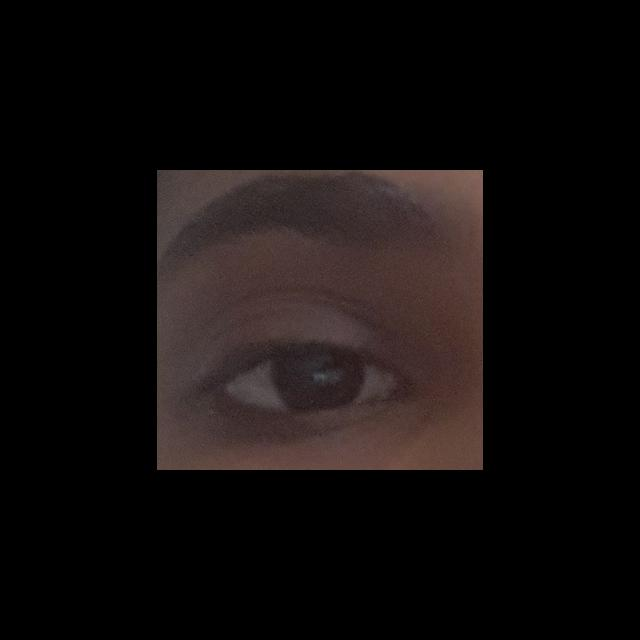eye: (225, 345, 396, 412)
iris: (270, 347, 363, 409)
